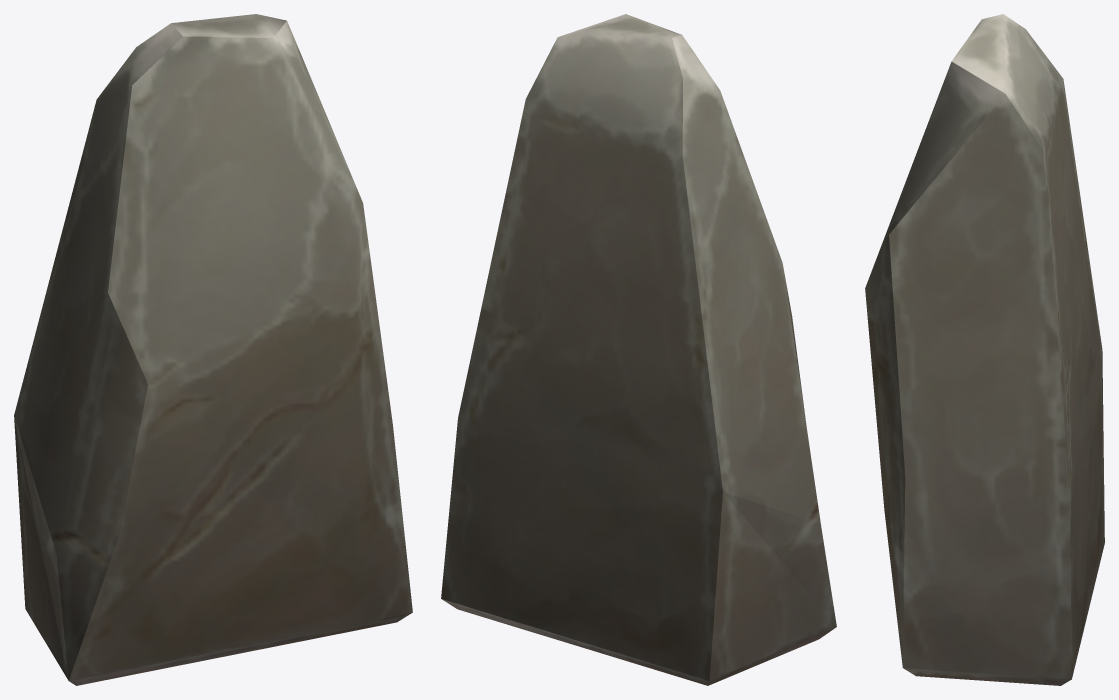
Rendered from sylized_05.obj.
3 views of the same model, side by side, from view 1: azimuth 30°, elevation 25°; view 2: azimuth 150°, elevation 25°; view 3: azimuth 270°, elevation 25° (orthographic). The views are drawn at different scales.
Parts seen in each view (by area): view 1: SM_Rocks_08; view 2: SM_Rocks_08; view 3: SM_Rocks_08.
Boxes of the visible parts, left/top/right/bottom form: SM_Rocks_08: left=14, top=14, right=412, bottom=685; SM_Rocks_08: left=441, top=14, right=836, bottom=685; SM_Rocks_08: left=865, top=14, right=1104, bottom=685.
Size of the model in its own units: 56.29 by 97.58 by 36.34.
